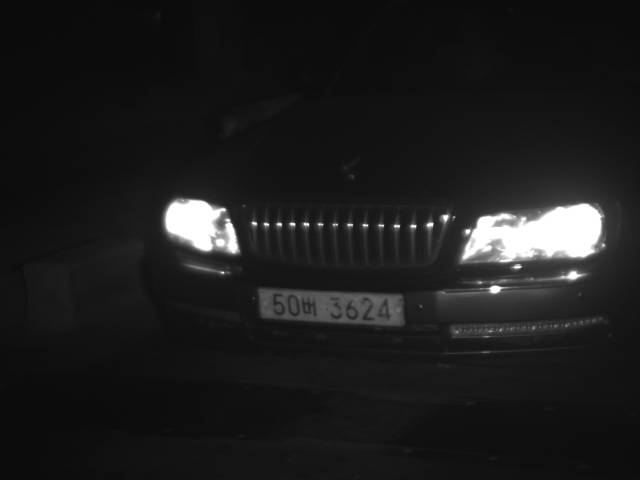car: (135, 1, 639, 363)
plate: (255, 284, 408, 329)
